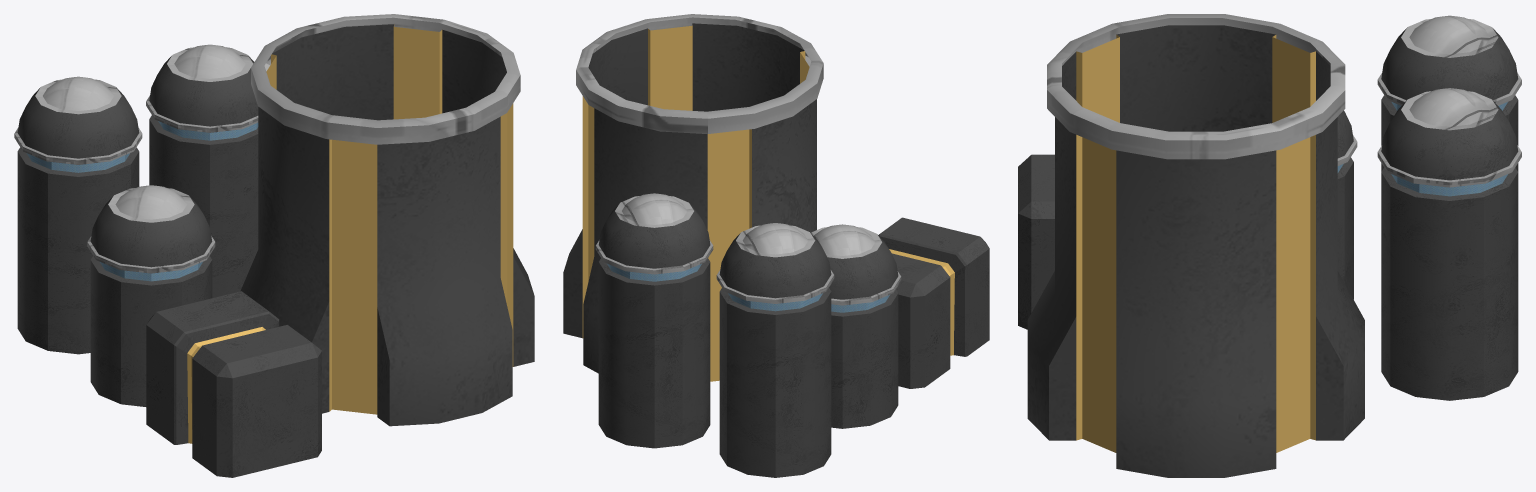
Rendered from NB_Bottom_cyvilian_Building_1.fbx.
3 renders of one model, left to right at view 1: azimuth 30°, elevation 25°; view 2: azimuth 150°, elevation 25°; view 3: azimuth 270°, elevation 25°, orthographic. The views are drawn at different scales.
Parts seen in each view (by area): view 1: NB_Bottom_cyvilian_Building_1; view 2: NB_Bottom_cyvilian_Building_1; view 3: NB_Bottom_cyvilian_Building_1.
Boxes of the visible parts, bbox=[...] form: NB_Bottom_cyvilian_Building_1: bbox=[14, 14, 534, 477]; NB_Bottom_cyvilian_Building_1: bbox=[563, 14, 989, 477]; NB_Bottom_cyvilian_Building_1: bbox=[1018, 14, 1521, 477].
Size of the model in its own units: 361 by 267 by 368.
